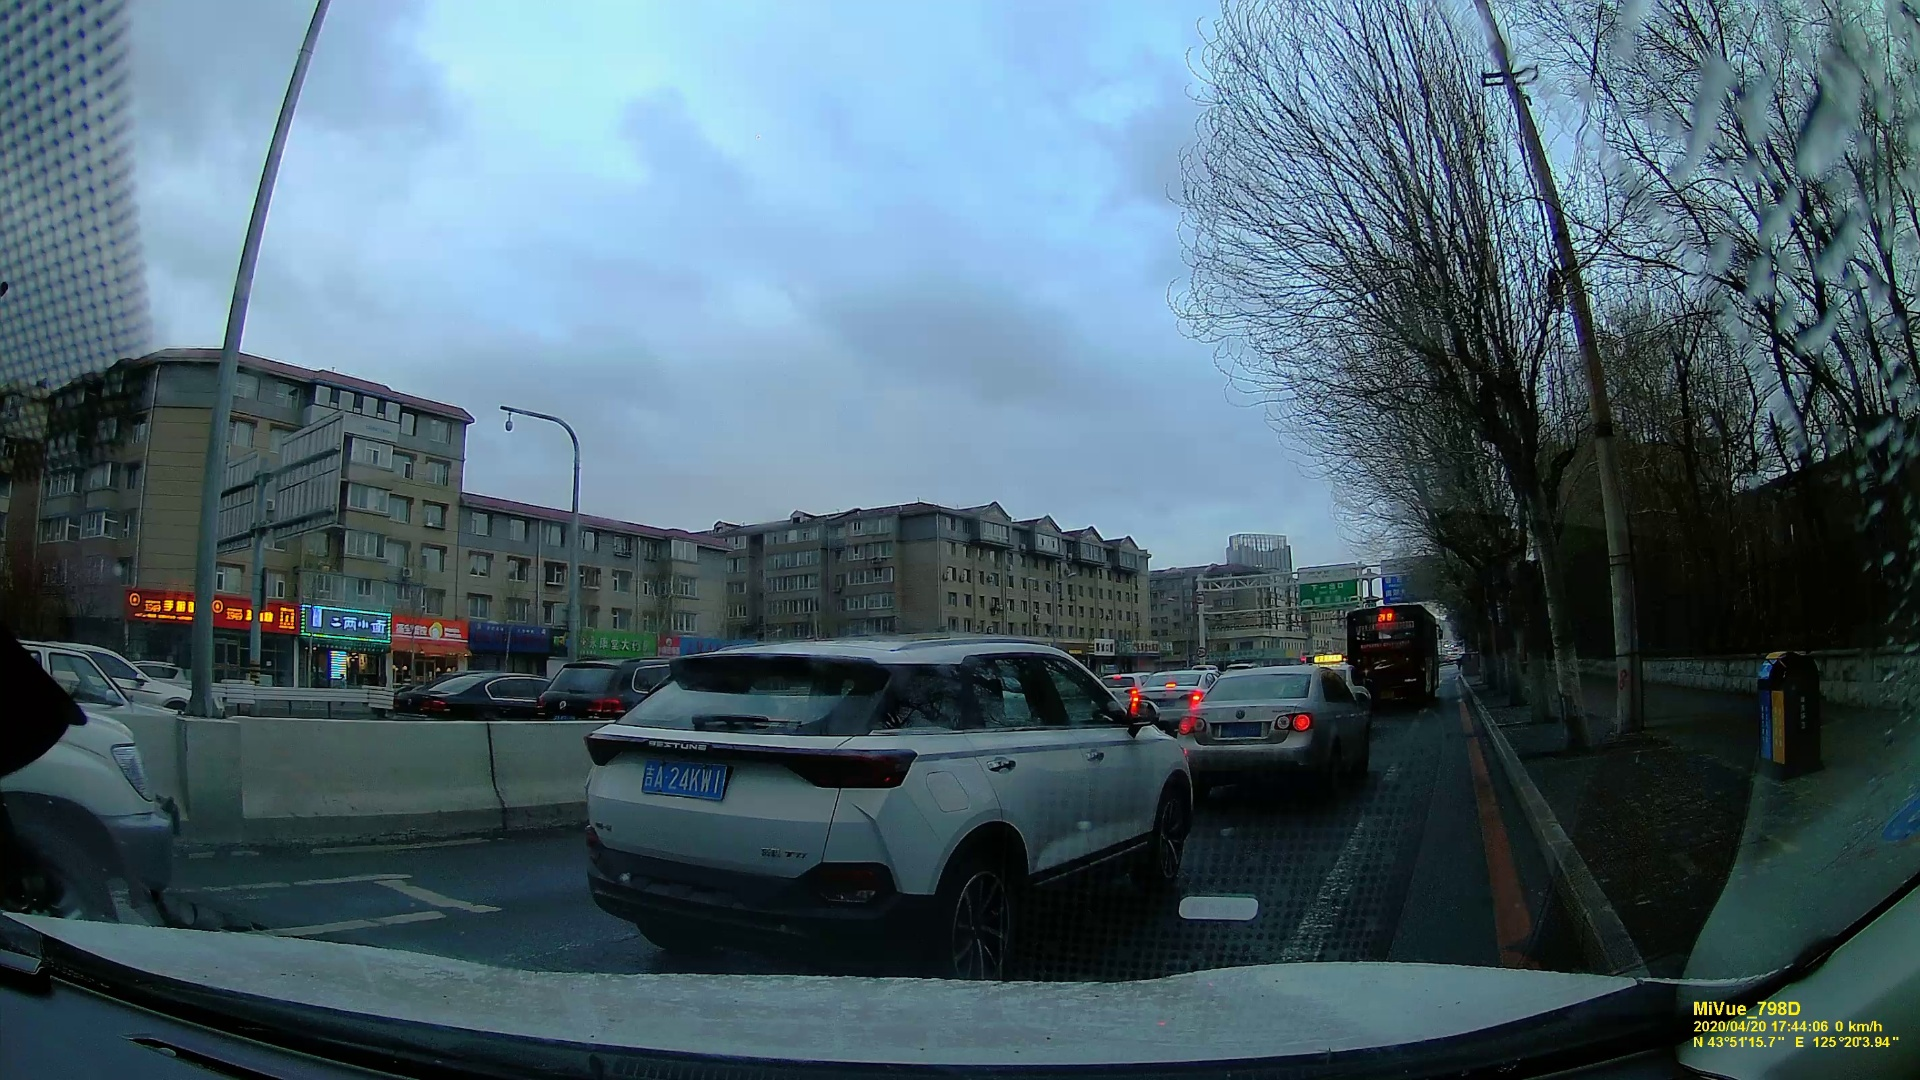bus: (1342, 599, 1447, 705)
traffic_sign: (1288, 562, 1365, 604), (1381, 560, 1447, 599)
vehicle: (579, 644, 1196, 963), (1183, 666, 1364, 793), (390, 669, 538, 721)
